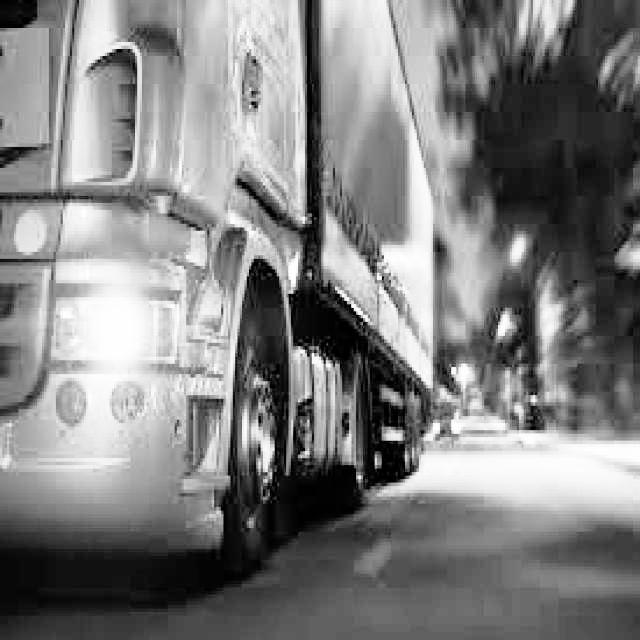Truck: (0, 0, 435, 581)
